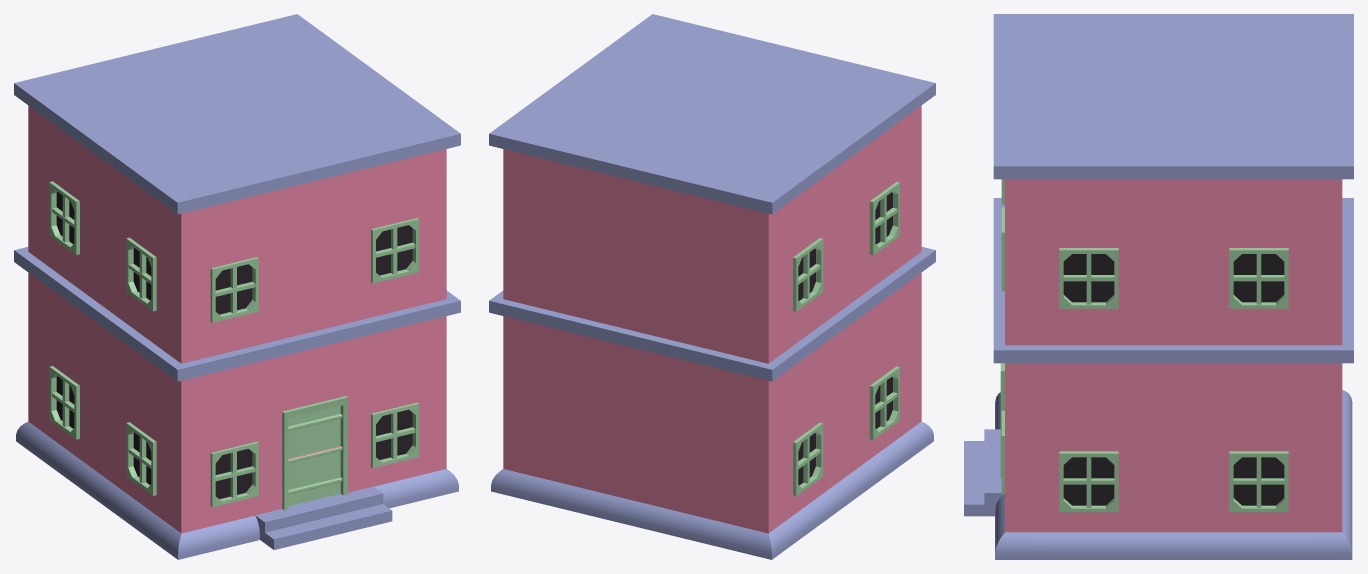
File: house pink 2nd flor.fbx
3 renders of one model, left to right at view 1: azimuth 30°, elevation 25°; view 2: azimuth 150°, elevation 25°; view 3: azimuth 270°, elevation 25°, orthographic. The views are drawn at different scales.
Parts seen in each view (by area): view 1: Cube; view 2: Cube; view 3: Cube.
Part boxes in pixels (x1,y1,x2,y2): Cube: (14,14,460,559); Cube: (489,14,935,559); Cube: (964,14,1353,559).
Bounding box in the file's own units: 9.21 × 11.12 × 9.96.
